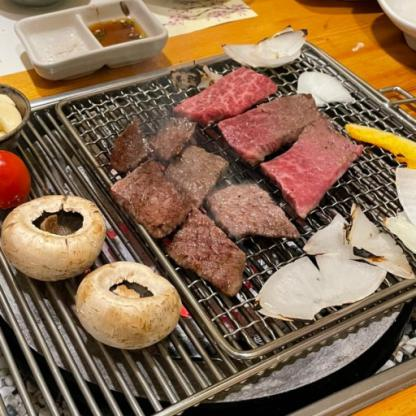Carne: (106, 160, 191, 245), (170, 216, 254, 298), (208, 178, 303, 245), (163, 136, 229, 209), (146, 108, 198, 160), (104, 121, 160, 168)
